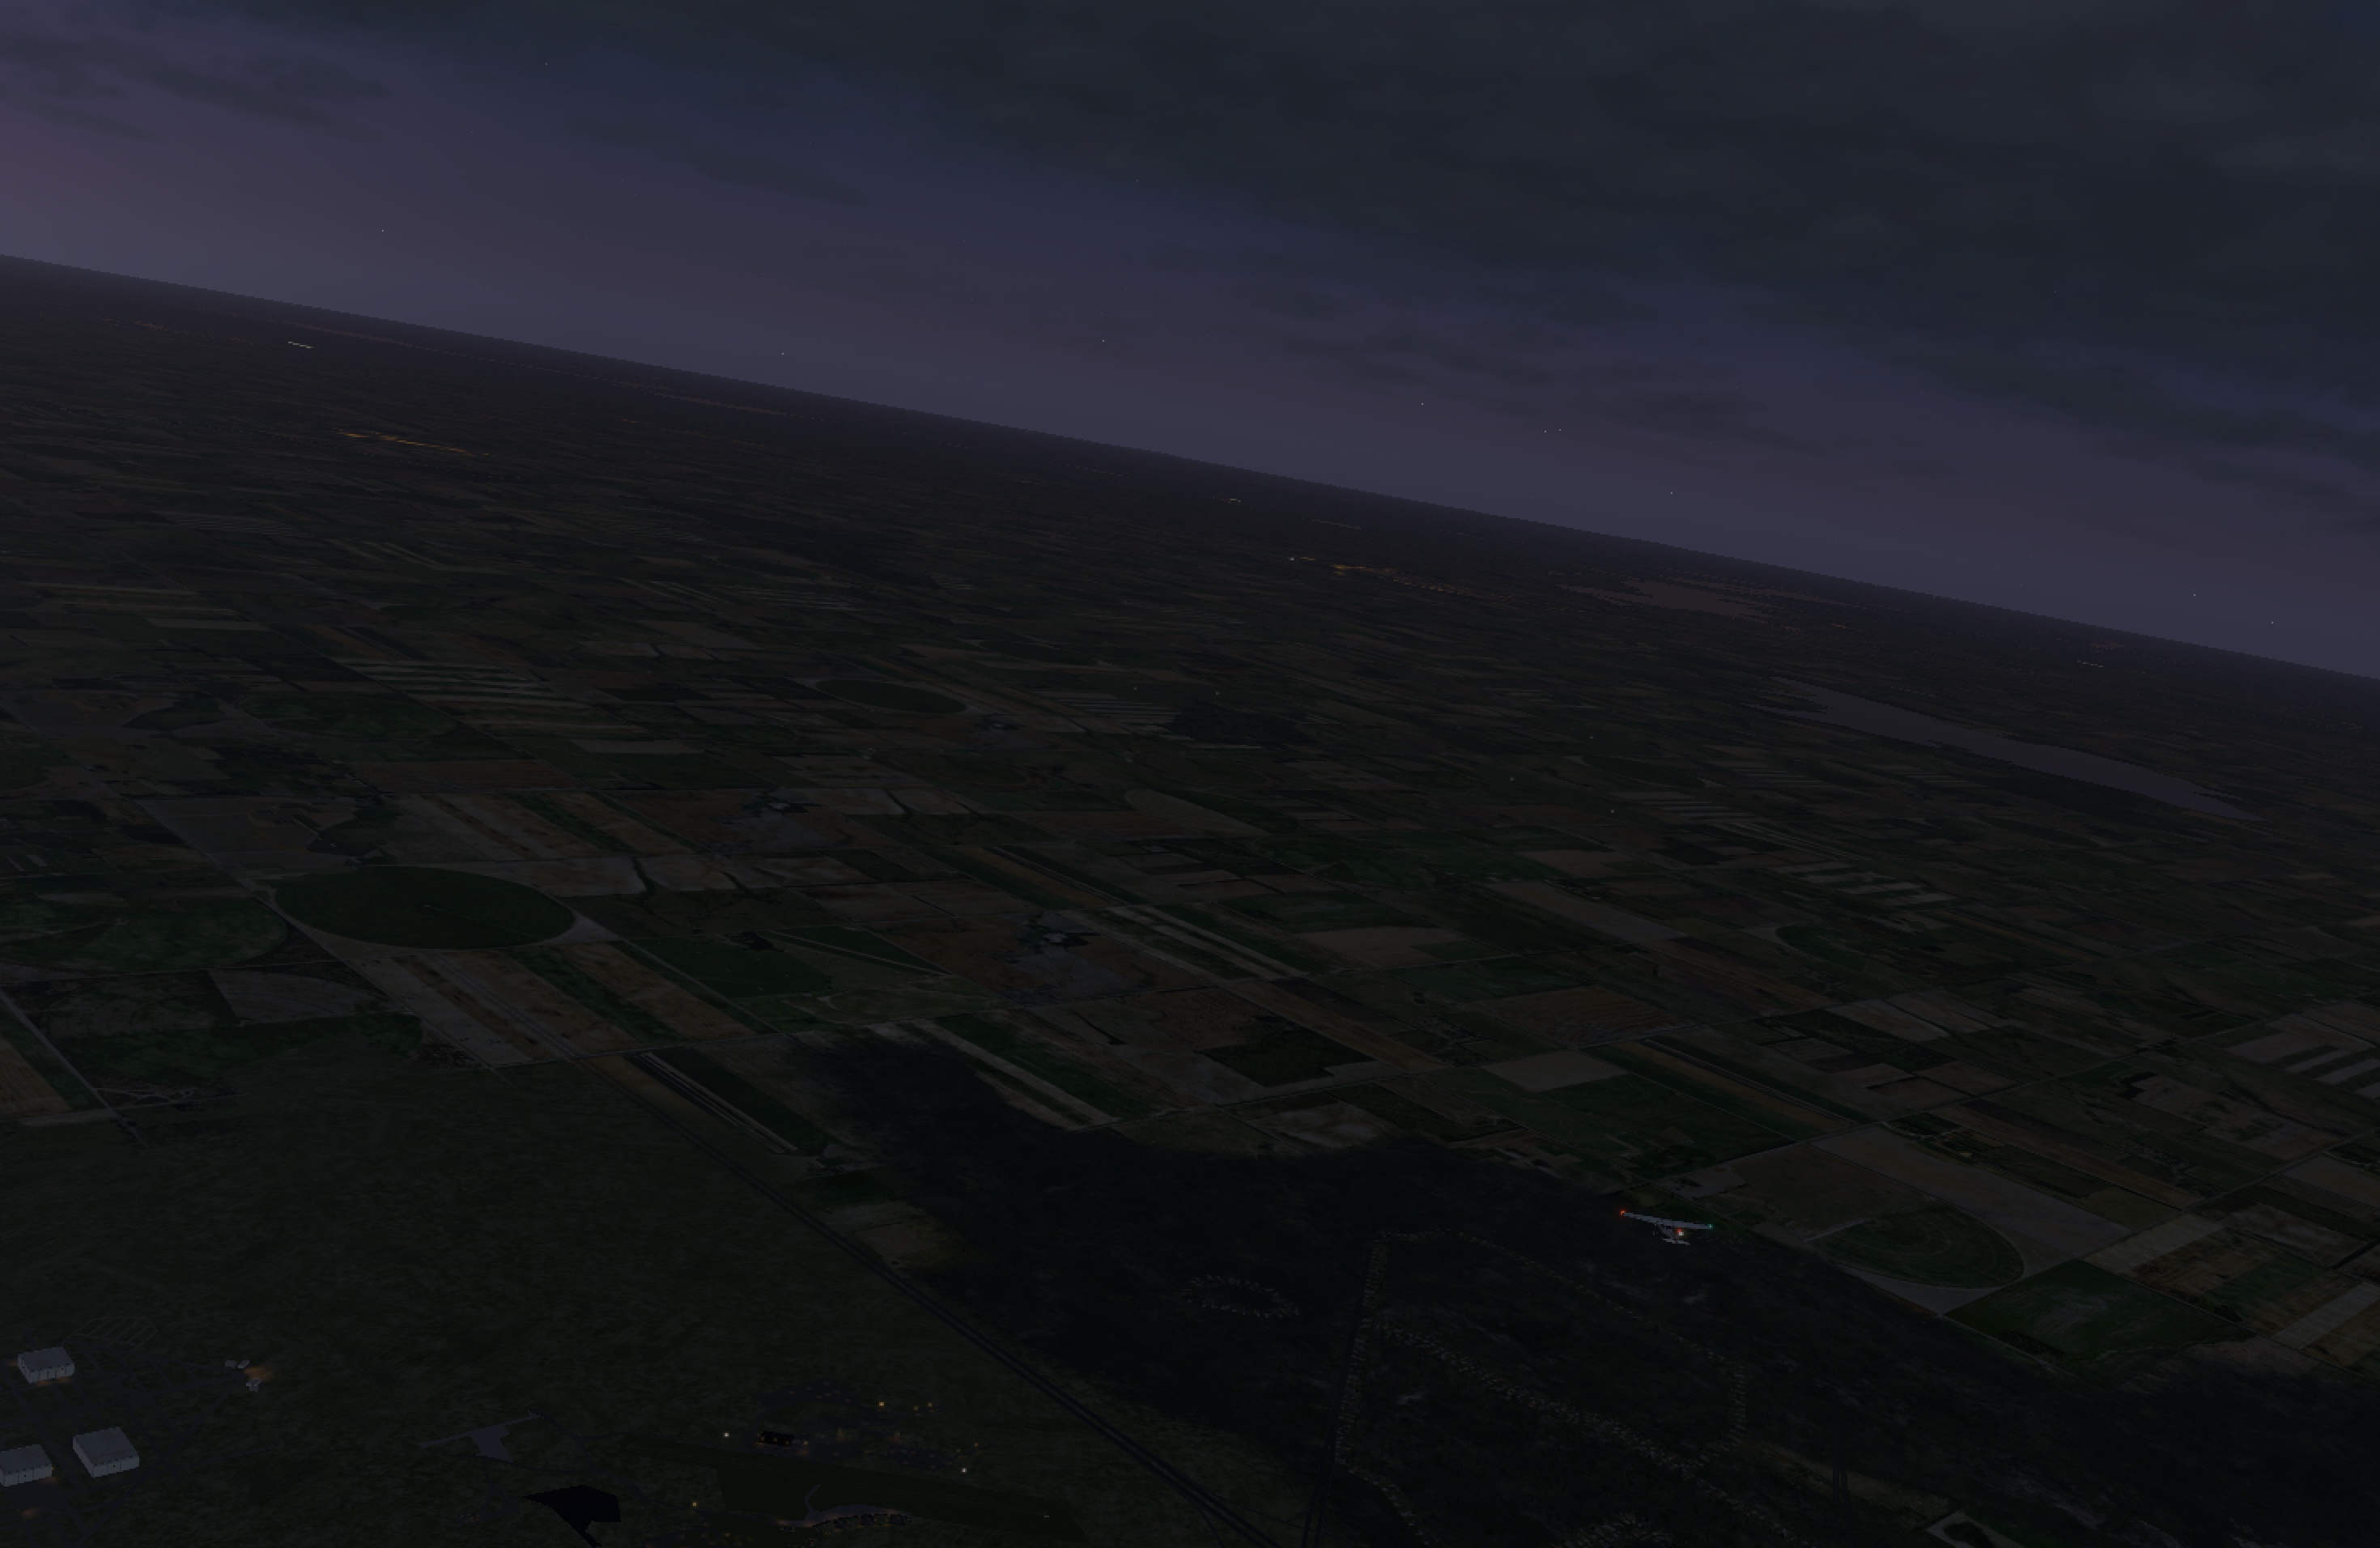aircraft: (1634, 1213, 1697, 1237)
